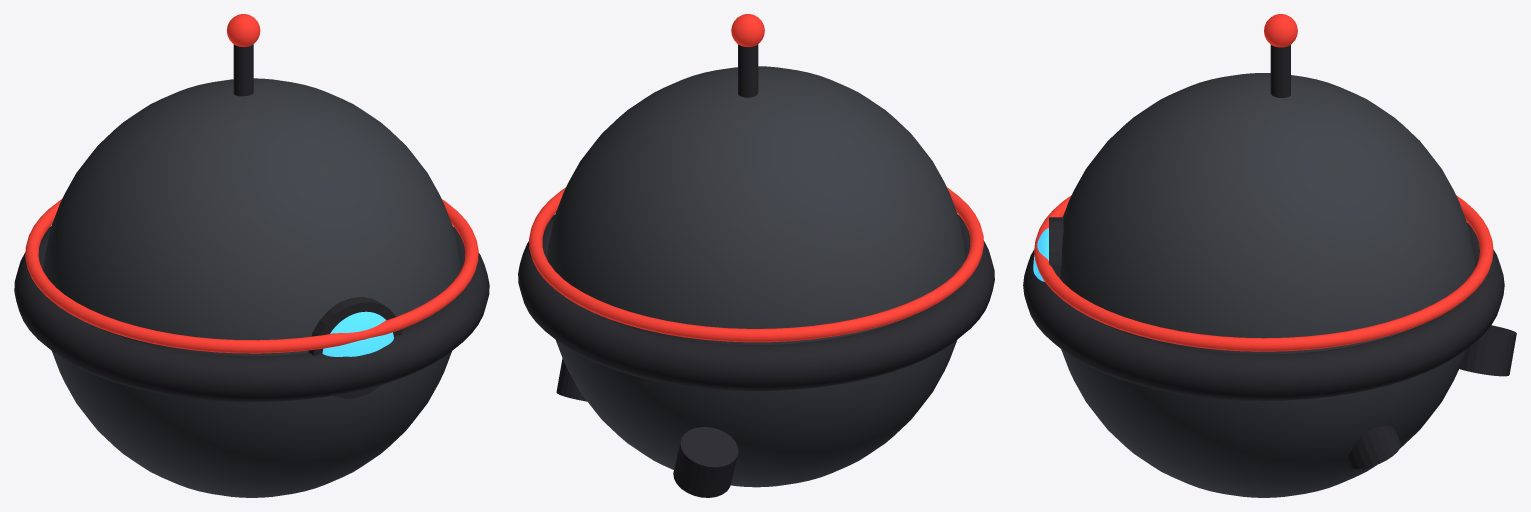
The model's file is owl_drone.glb.
3 views of the same model, side by side, from view 1: azimuth 30°, elevation 25°; view 2: azimuth 150°, elevation 25°; view 3: azimuth 270°, elevation 25° (orthographic).
Parts seen in each view (by area): view 1: Owl_Drone; view 2: Owl_Drone; view 3: Owl_Drone.
Part boxes in pixels (<box>): Owl_Drone: <box>14,14,489,497</box>; Owl_Drone: <box>518,14,994,497</box>; Owl_Drone: <box>1023,14,1516,497</box>.
Bounding box in the file's own units: 0.566 × 0.6 × 0.5803.
